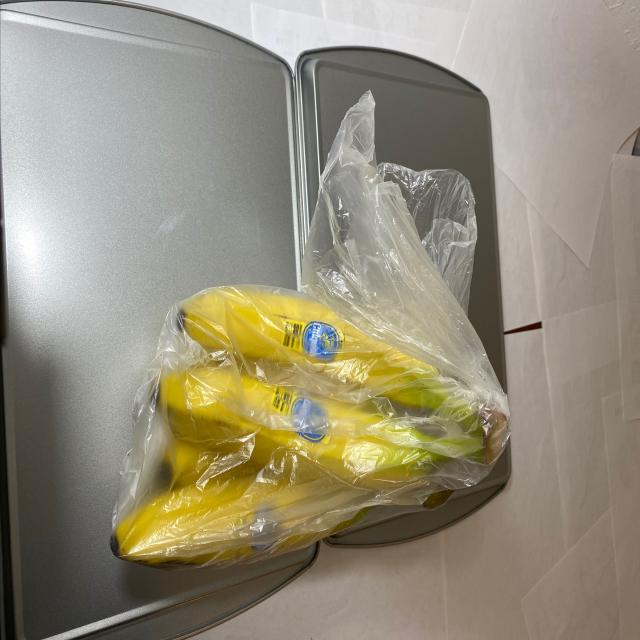banana: (112, 265, 511, 574)
